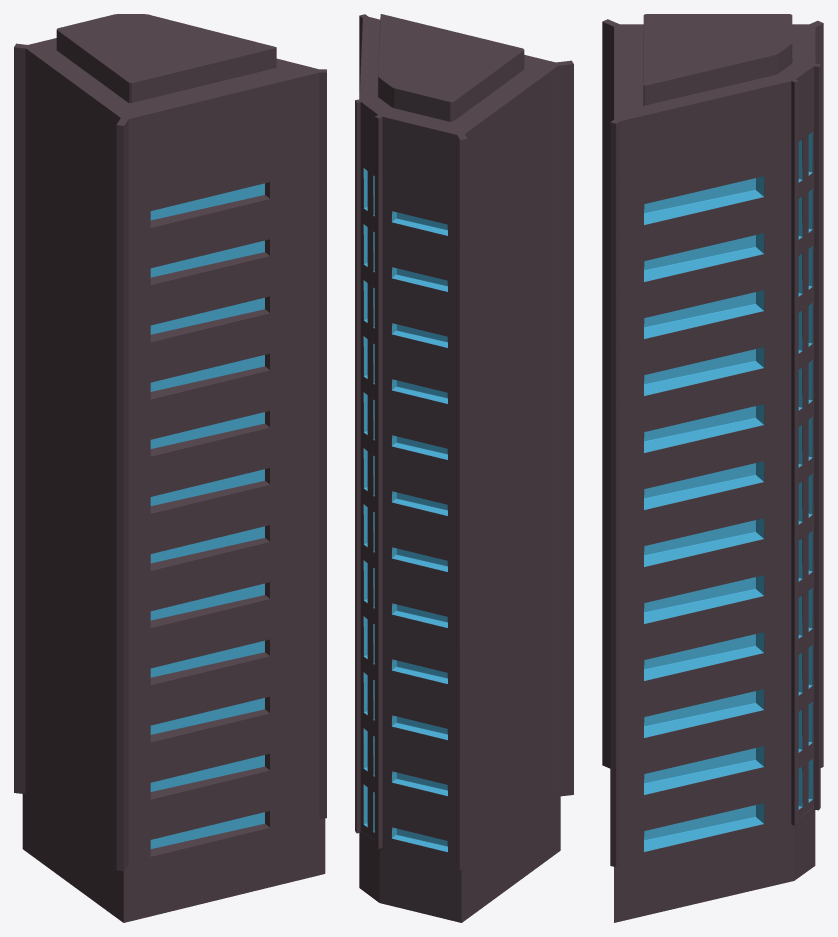
Rendered from buildings13.fbx.
3 views of the same model, side by side, from view 1: azimuth 30°, elevation 25°; view 2: azimuth 150°, elevation 25°; view 3: azimuth 270°, elevation 25° (orthographic). The views are drawn at different scales.
Visible parts, largest first — view 1: 9; view 2: 9; view 3: 9.
Boxes of the visible parts, x1,y1,x2,y2 form: 9: (14, 14, 326, 922); 9: (355, 14, 573, 922); 9: (602, 14, 823, 922).
Bounding box in the file's own units: 4296 × 15756 × 3852.
